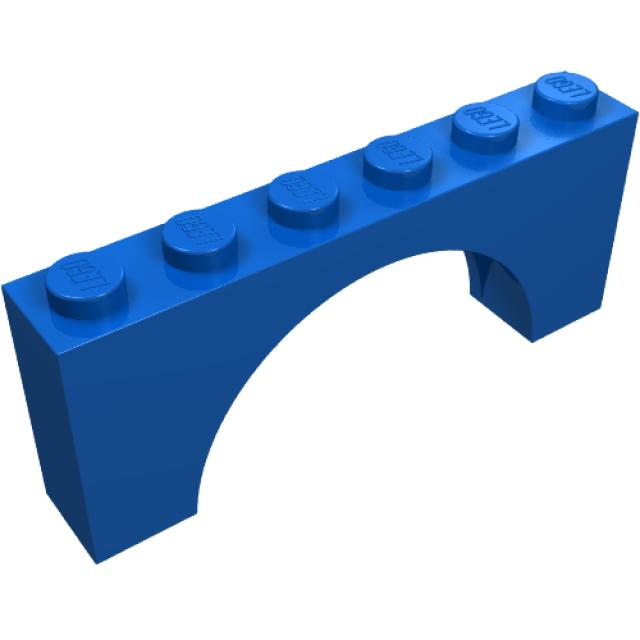Blue_Large: (4, 72, 640, 563)
